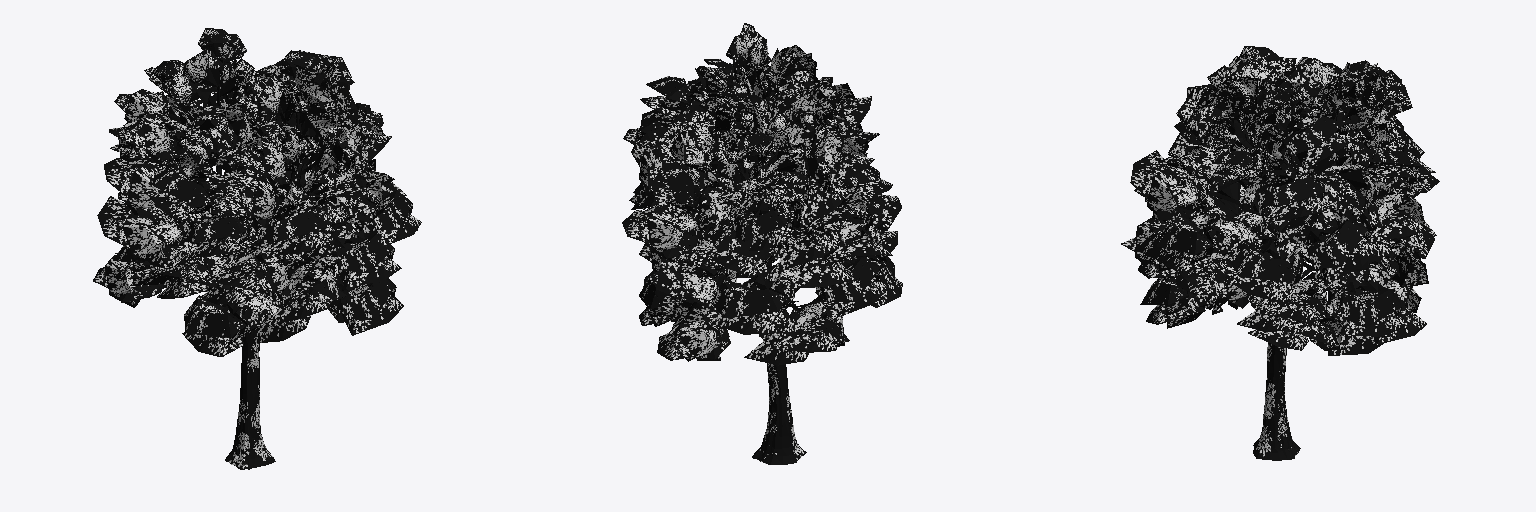
3 views of the same model, side by side, from view 1: azimuth 30°, elevation 25°; view 2: azimuth 150°, elevation 25°; view 3: azimuth 270°, elevation 25° (orthographic).
Parts seen in each view (by area): view 1: AM113_016_Quercusgw; view 2: AM113_016_Quercusgw; view 3: AM113_016_Quercusgw.
Boxes of the visible parts, x1=… form: AM113_016_Quercusgw: x1=93, y1=28, x2=421, y2=469; AM113_016_Quercusgw: x1=622, y1=23, x2=902, y2=464; AM113_016_Quercusgw: x1=1121, y1=46, x2=1439, y2=460.
Bounding box in the file's own units: 4833 × 6616 × 4829.
1 materials, 1 textured.